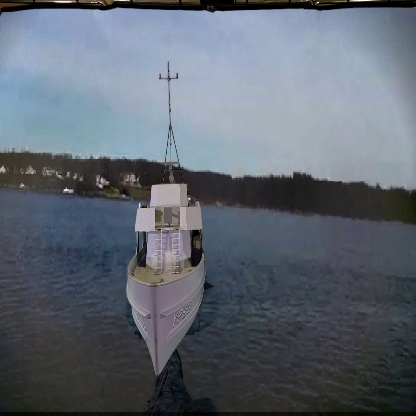YP689: (124, 58, 206, 375)
